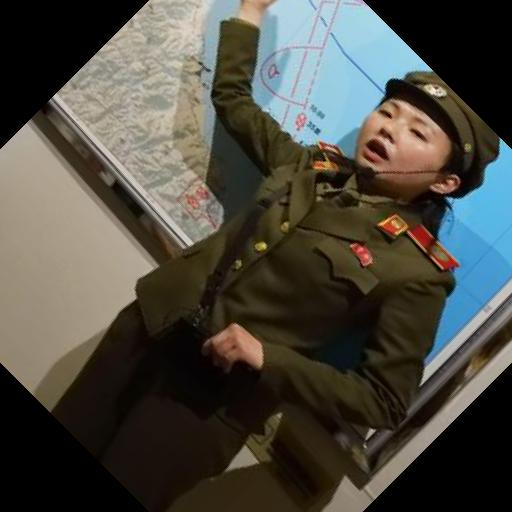north army: (143, 36, 485, 512)
